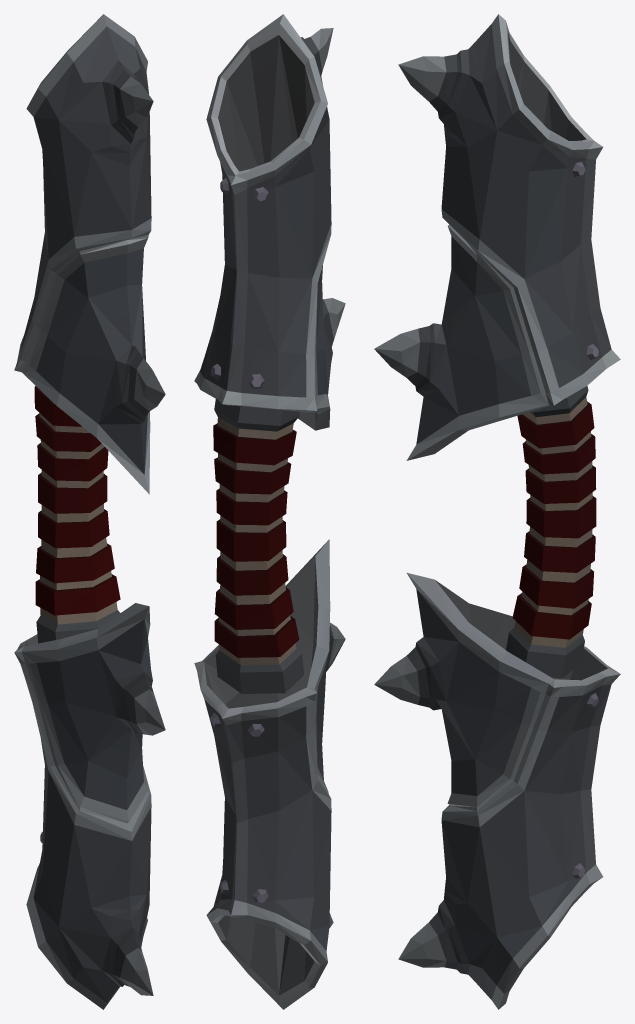
File: mediumBowMetalHandle.glb
The picture shows the model from 3 angles, left to right: view 1: azimuth 30°, elevation 25°; view 2: azimuth 150°, elevation 25°; view 3: azimuth 270°, elevation 25°; orthographic projection.
Visible parts, largest first — view 1: mediumBowMetalHandle; view 2: mediumBowMetalHandle; view 3: mediumBowMetalHandle.
Part boxes in pixels (x1,y1,x2,y2): mediumBowMetalHandle: (14,14,165,1009); mediumBowMetalHandle: (194,14,345,1009); mediumBowMetalHandle: (374,14,620,1009).
Bounding box in the file's own units: 0.103 × 0.7968 × 0.179.
